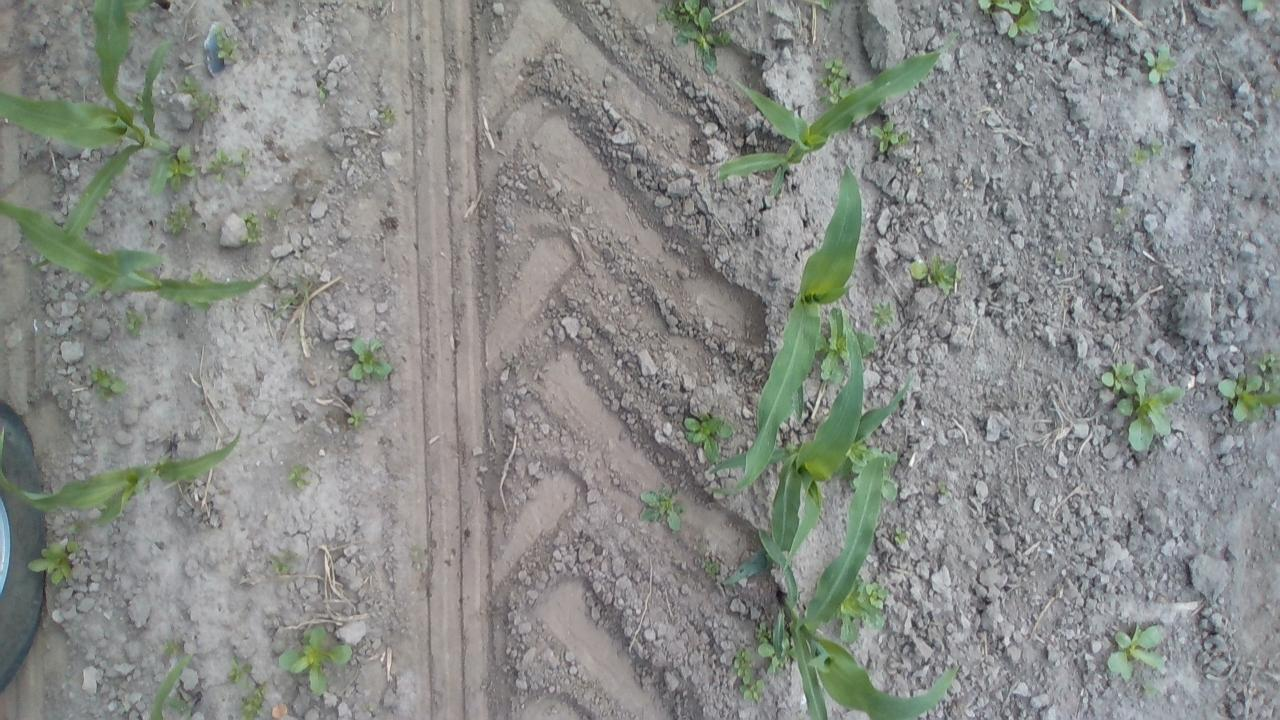Maize: (709, 300, 921, 598), (756, 451, 962, 720), (708, 154, 866, 500), (0, 0, 186, 271), (712, 33, 956, 203), (0, 194, 276, 304), (0, 423, 241, 531), (150, 653, 203, 720)
Weeds: (1100, 353, 1184, 455), (650, 0, 729, 78), (278, 623, 353, 700), (819, 304, 878, 384), (634, 480, 699, 538), (1108, 618, 1168, 677), (840, 573, 889, 645), (1216, 370, 1280, 423), (976, 0, 1056, 40), (682, 404, 732, 464), (851, 441, 900, 501), (906, 247, 959, 296), (27, 539, 79, 587), (267, 272, 316, 322), (174, 74, 222, 124), (346, 333, 393, 382), (204, 146, 252, 186), (815, 55, 854, 103), (87, 358, 126, 401), (757, 626, 789, 674), (236, 676, 270, 720), (1140, 40, 1175, 82), (868, 121, 911, 155), (167, 142, 194, 192), (1126, 139, 1166, 168), (222, 649, 255, 684), (266, 544, 300, 576), (214, 24, 244, 60), (161, 202, 192, 235), (698, 548, 723, 584), (1252, 348, 1280, 378), (732, 644, 754, 682), (122, 304, 145, 340), (288, 461, 314, 492), (241, 211, 263, 246), (736, 678, 766, 703), (872, 298, 894, 330), (1048, 242, 1073, 266), (1108, 204, 1134, 225), (346, 401, 365, 428), (892, 523, 911, 548), (160, 633, 176, 659), (756, 622, 774, 644), (264, 203, 284, 222), (934, 477, 950, 497), (1141, 682, 1158, 700), (68, 520, 86, 537), (189, 270, 212, 283), (1238, 0, 1262, 12), (378, 104, 393, 123), (816, 0, 834, 13), (316, 82, 329, 98), (410, 541, 423, 555), (1269, 80, 1280, 96), (364, 700, 374, 712), (240, 0, 248, 7)
